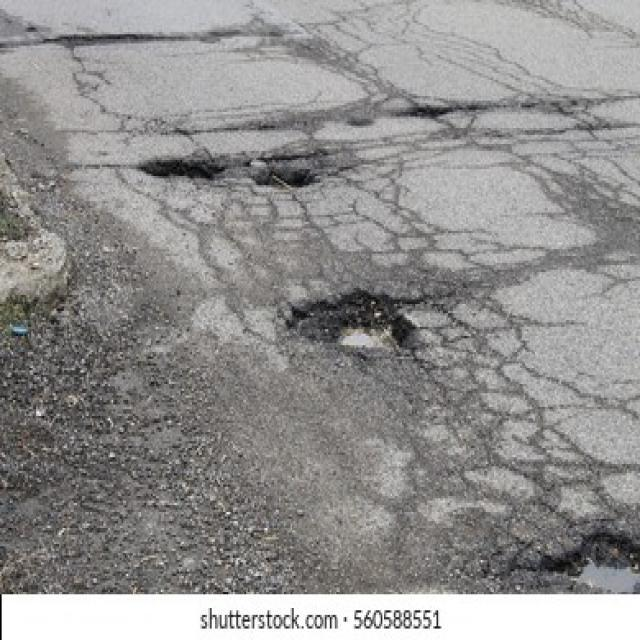Pothole: (282, 286, 422, 359), (538, 521, 640, 592), (138, 155, 228, 183), (248, 148, 326, 172), (256, 167, 320, 190), (52, 30, 152, 44), (401, 105, 456, 119)
